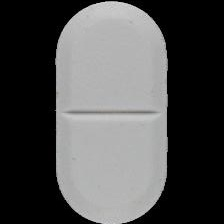43353-895: (0, 0, 224, 224)
